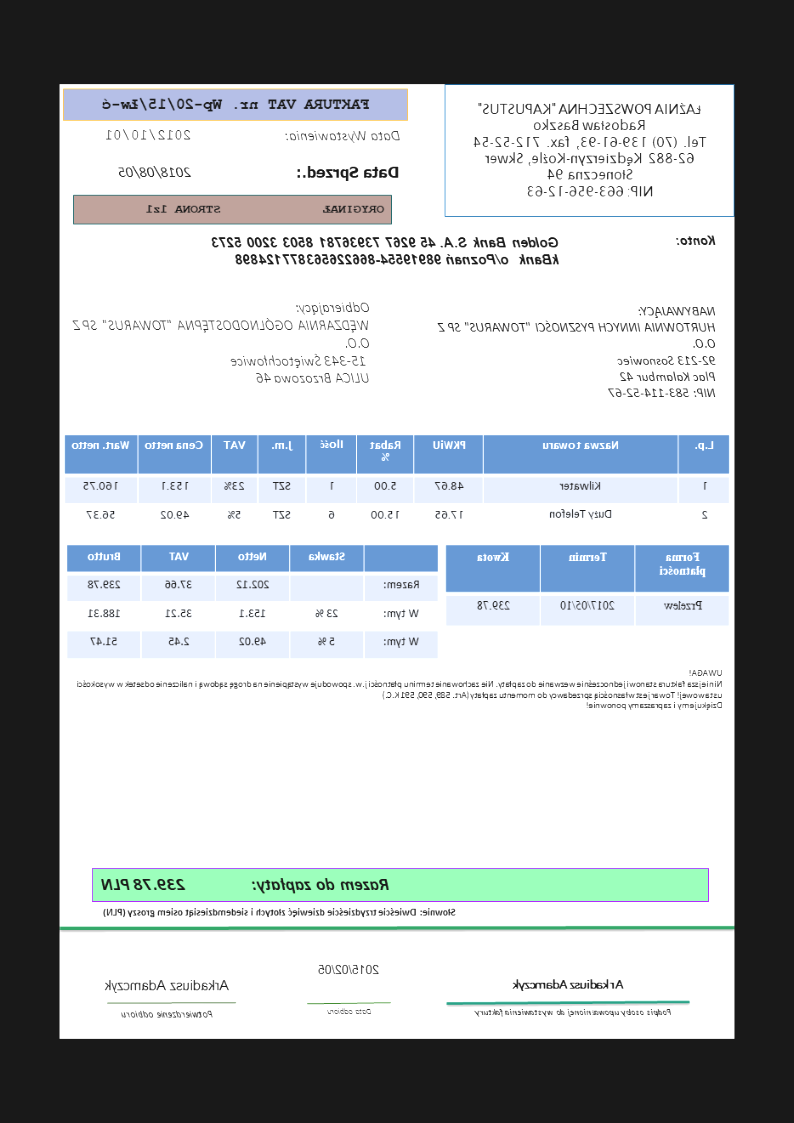Table: (64, 434, 731, 535), (66, 543, 440, 659), (445, 543, 732, 627)
TextBox: (76, 666, 725, 712), (434, 303, 718, 400), (71, 299, 372, 386), (471, 100, 709, 199), (209, 235, 562, 268), (99, 875, 392, 894), (103, 904, 458, 919), (99, 94, 372, 113), (145, 200, 388, 217), (472, 1005, 674, 1019), (295, 162, 401, 183), (102, 978, 231, 995), (282, 128, 402, 145), (510, 977, 626, 993), (102, 128, 193, 145), (120, 1007, 216, 1020), (116, 164, 193, 179), (317, 961, 382, 977), (676, 232, 717, 248), (327, 1006, 374, 1016)
